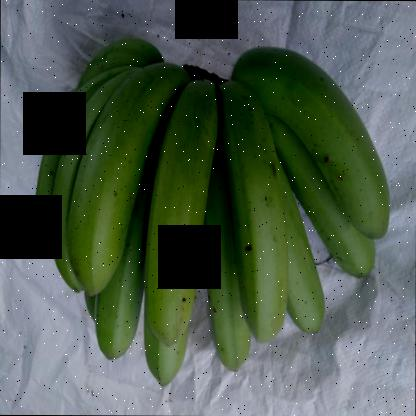freshunripe: (67, 58, 188, 304), (251, 45, 388, 238), (145, 65, 235, 354), (218, 39, 286, 348), (268, 209, 334, 340), (85, 260, 140, 387)
